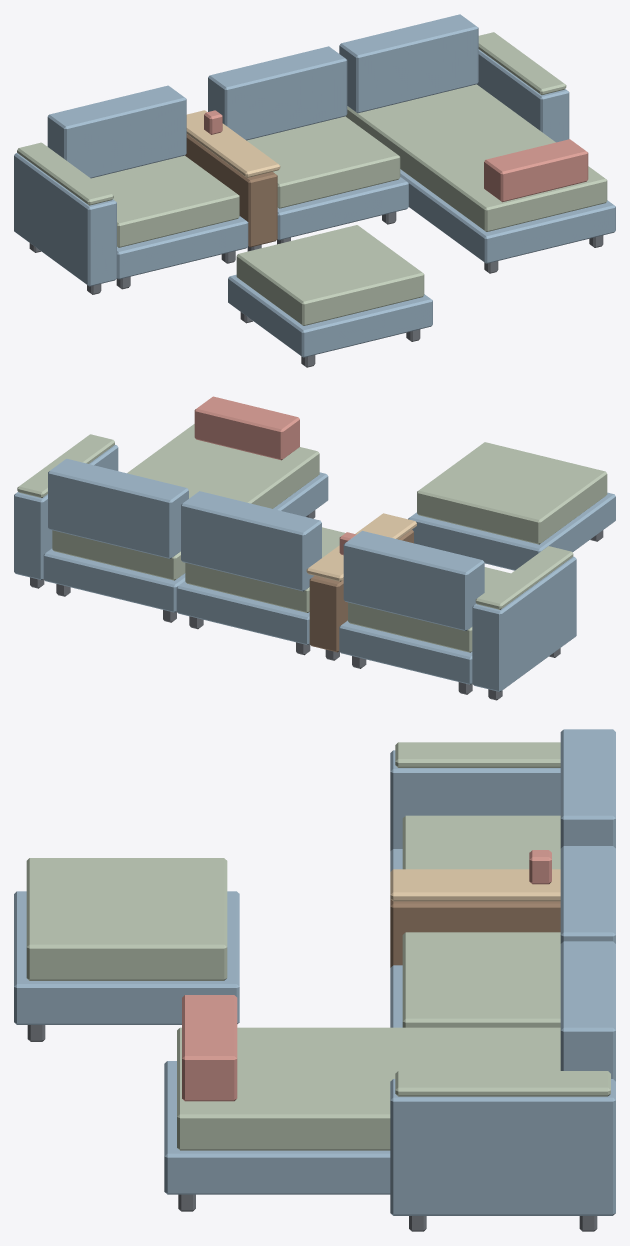
Rendered from _DemoSofa.glb.
The picture shows the model from 3 angles, top to bottom: view 1: azimuth 30°, elevation 25°; view 2: azimuth 150°, elevation 25°; view 3: azimuth 270°, elevation 25°; orthographic projection. The views are drawn at different scales.
Visible parts, largest first — view 1: Sofa_Chaise_1_Body.001, Sofa_Seat_1_Body.002, Sofa_Seat_1_Body.001, Sofa_Storage_1_Lid.001, Sofa_Arm_1_Body.001, Sofa_Storage_1_Body.001, Sofa_Console_1_Body.001, Sofa_Arm_1_Body.002; view 2: Sofa_Chaise_1_Body.001, Sofa_Seat_1_Body.002, Sofa_Seat_1_Body.001, Sofa_Storage_1_Lid.001, Sofa_Arm_1_Body.001, Sofa_Storage_1_Body.001, Sofa_Arm_1_Body.002, Sofa_Console_1_Body.001; view 3: Sofa_Chaise_1_Body.001, Sofa_Arm_1_Body.002, Sofa_Storage_1_Lid.001, Sofa_Seat_1_Body.002, Sofa_Seat_1_Body.001, Sofa_Arm_1_Body.001, Sofa_Console_1_Body.001, Sofa_Storage_1_Body.001.
Part boxes in pixels (left/top/right/bottom): Sofa_Chaise_1_Body.001: left=339, top=14, right=615, bottom=273; Sofa_Seat_1_Body.002: left=208, top=46, right=408, bottom=244; Sofa_Seat_1_Body.001: left=47, top=85, right=248, bottom=289; Sofa_Storage_1_Lid.001: left=236, top=225, right=424, bottom=325; Sofa_Arm_1_Body.001: left=14, top=142, right=116, bottom=294; Sofa_Storage_1_Body.001: left=228, top=274, right=432, bottom=367; Sofa_Console_1_Body.001: left=185, top=110, right=280, bottom=251; Sofa_Arm_1_Body.002: left=477, top=32, right=569, bottom=142; Sofa_Chaise_1_Body.001: left=43, top=396, right=328, bottom=622; Sofa_Seat_1_Body.002: left=176, top=491, right=345, bottom=655; Sofa_Seat_1_Body.001: left=339, top=530, right=510, bottom=694; Sofa_Storage_1_Lid.001: left=417, top=442, right=607, bottom=544; Sofa_Arm_1_Body.001: left=472, top=546, right=576, bottom=700; Sofa_Storage_1_Body.001: left=408, top=492, right=615, bottom=570; Sofa_Arm_1_Body.002: left=14, top=434, right=118, bottom=588; Sofa_Console_1_Body.001: left=306, top=513, right=416, bottom=660; Sofa_Chaise_1_Body.001: left=164, top=941, right=615, bottom=1211; Sofa_Arm_1_Body.002: left=390, top=1071, right=615, bottom=1231; Sofa_Storage_1_Lid.001: left=26, top=858, right=227, bottom=980; Sofa_Seat_1_Body.002: left=390, top=846, right=615, bottom=1027; Sofa_Seat_1_Body.001: left=390, top=729, right=615, bottom=871; Sofa_Arm_1_Body.001: left=390, top=742, right=560, bottom=850; Sofa_Console_1_Body.001: left=390, top=850, right=560, bottom=967; Sofa_Storage_1_Body.001: left=14, top=891, right=239, bottom=1041.
Size of the model in its own units: 3.3 by 0.82 by 2.4.
